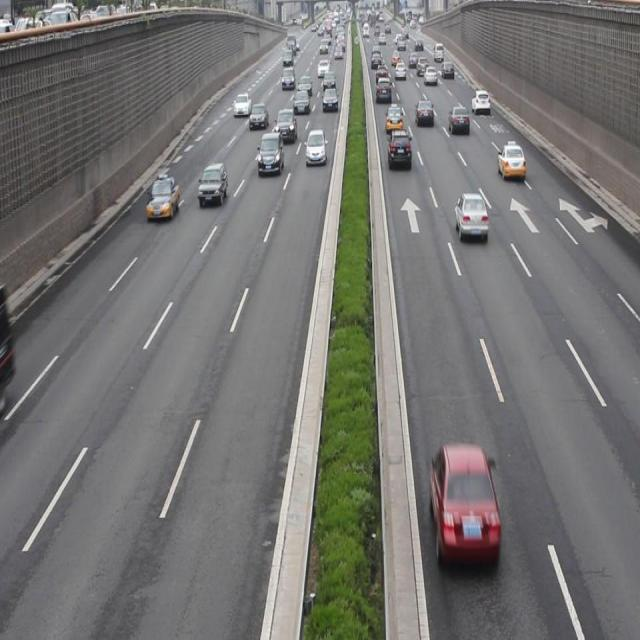car: (428, 441, 500, 568), (454, 191, 487, 240), (146, 173, 179, 220), (197, 162, 228, 205), (256, 130, 284, 176), (497, 142, 525, 182), (388, 129, 412, 170), (274, 108, 297, 142), (304, 129, 326, 164), (448, 104, 470, 136), (414, 98, 434, 127), (384, 103, 403, 133), (248, 102, 268, 129)
